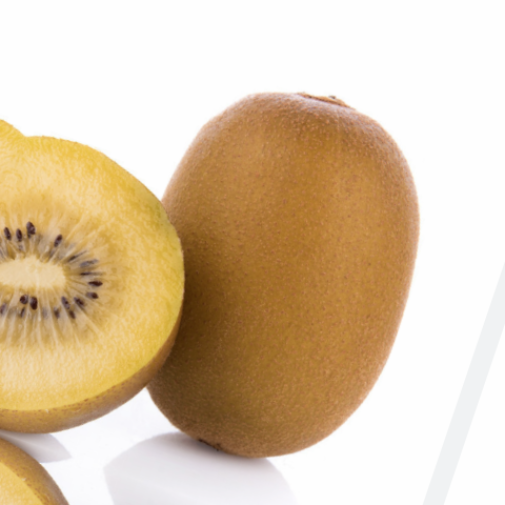kiwi: (35, 26, 505, 505)
